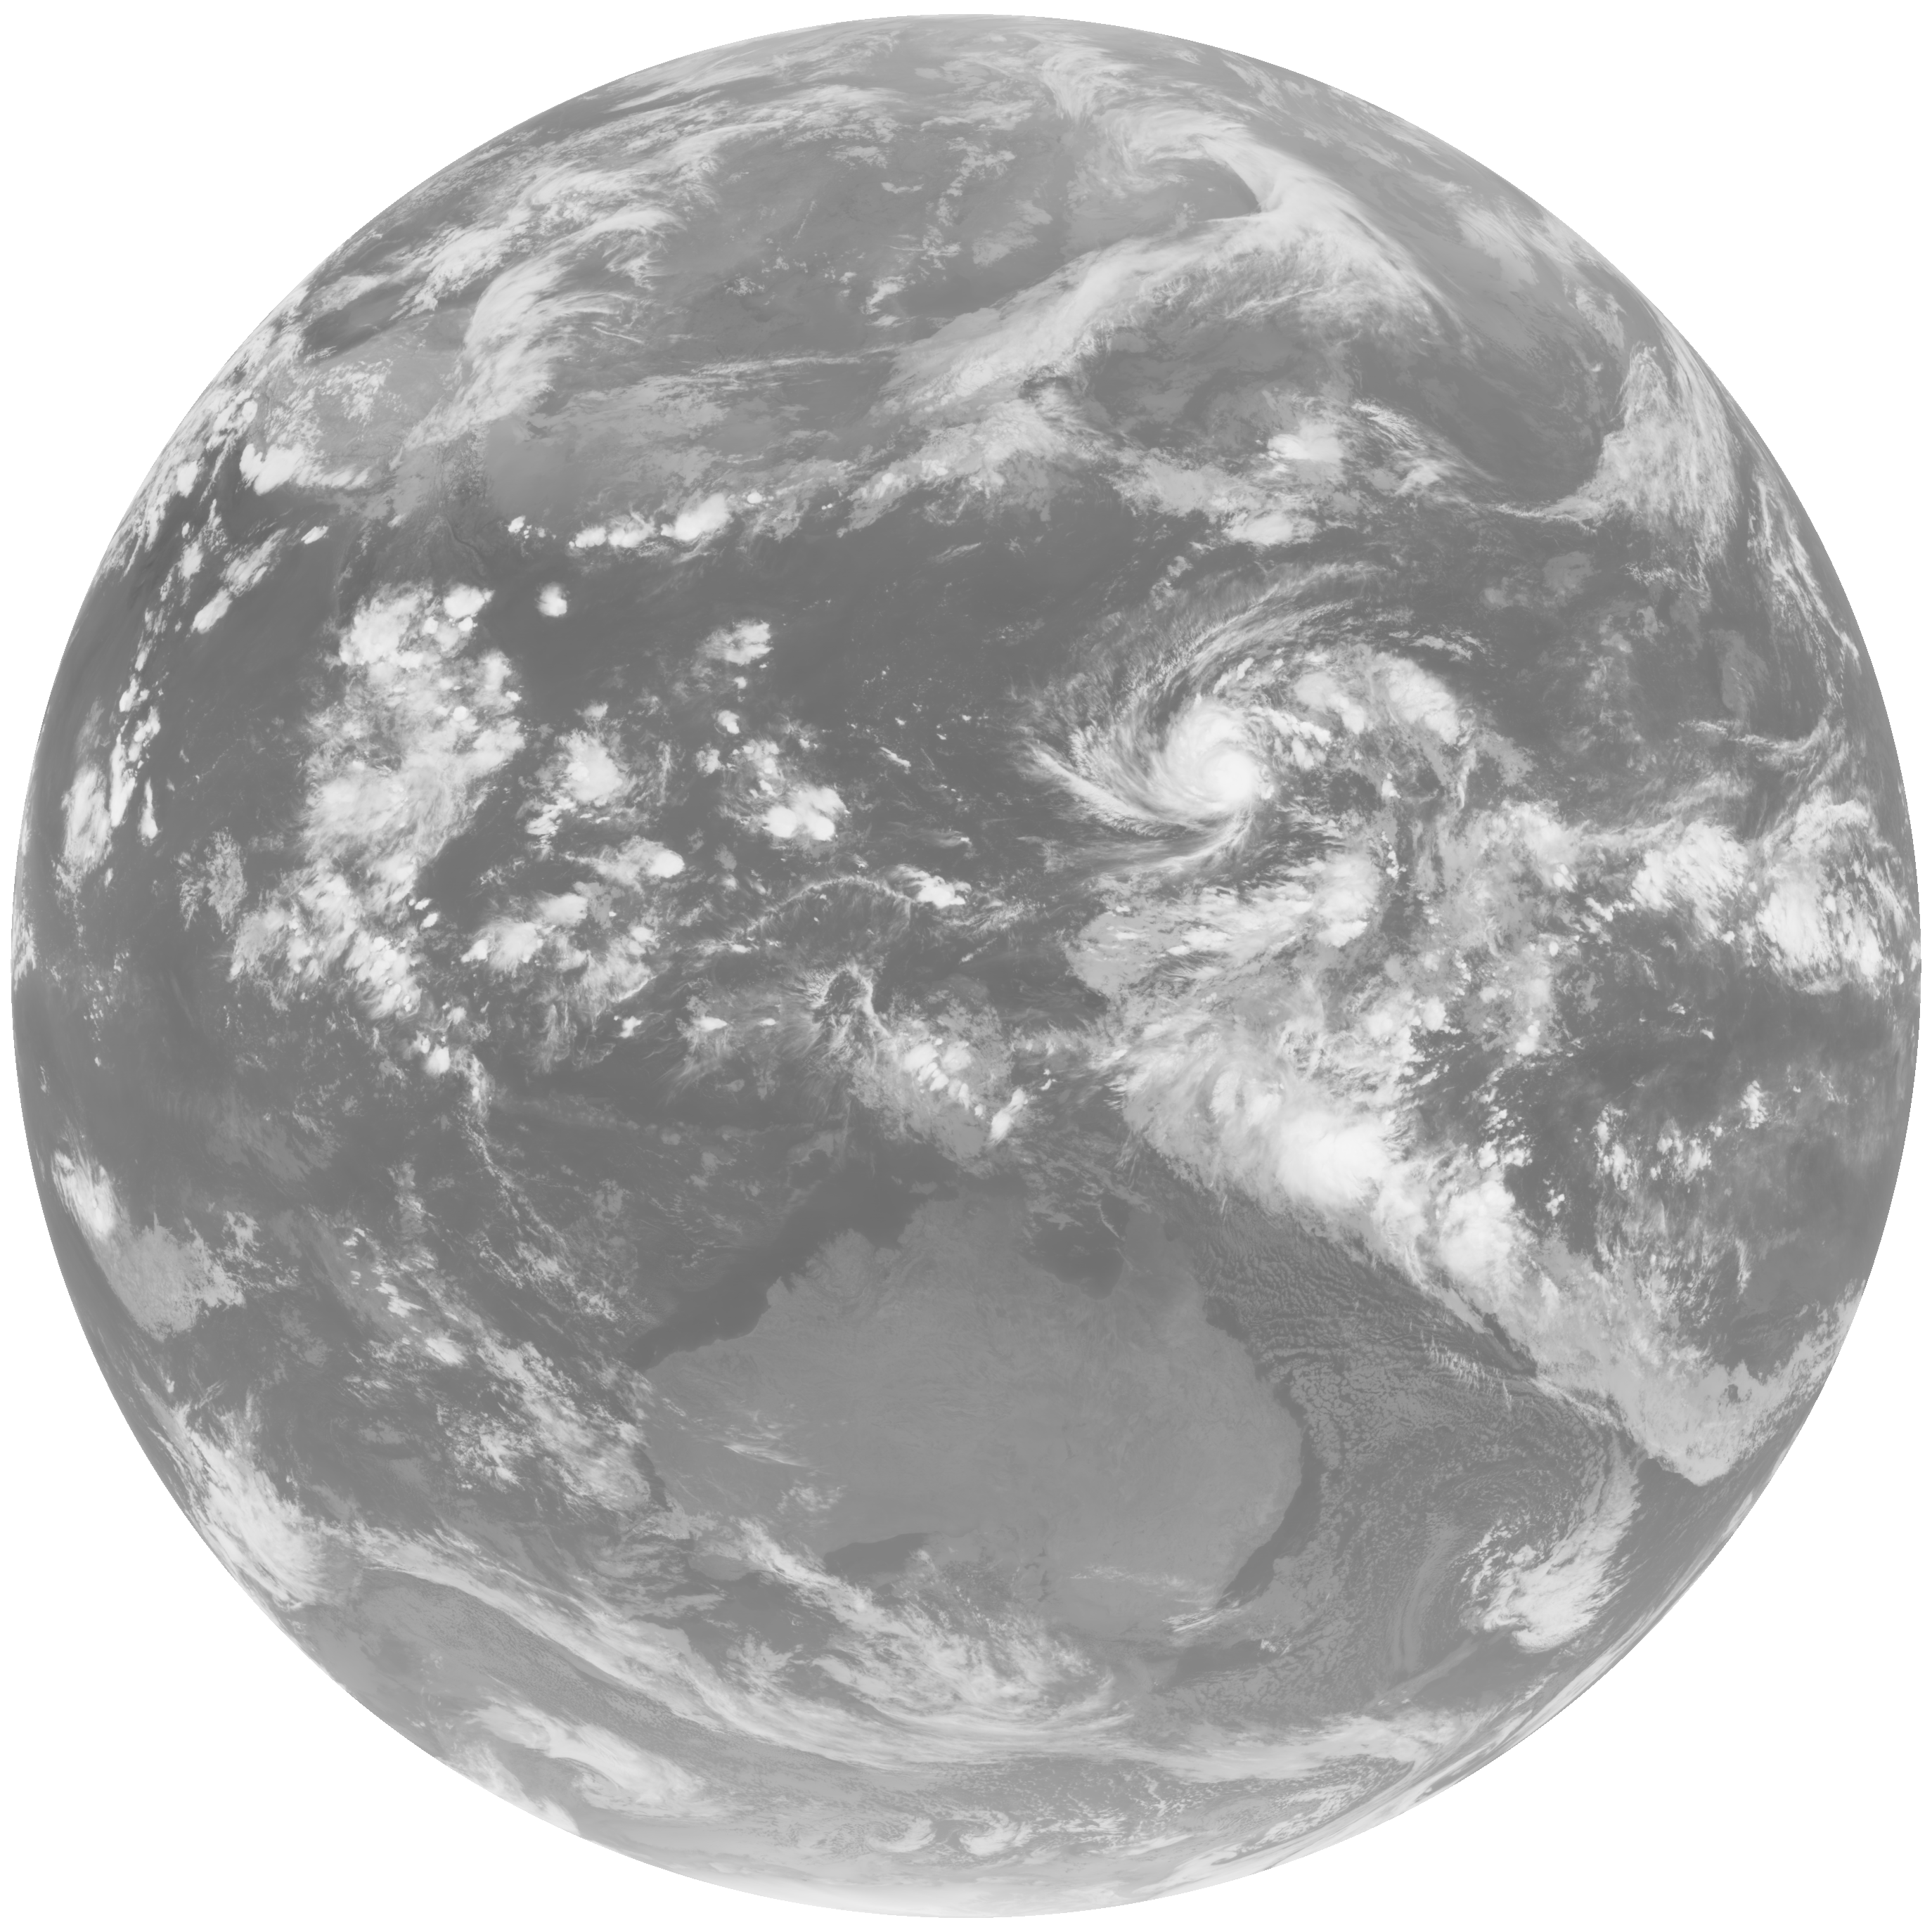typhoon: (982, 554, 1456, 939)
